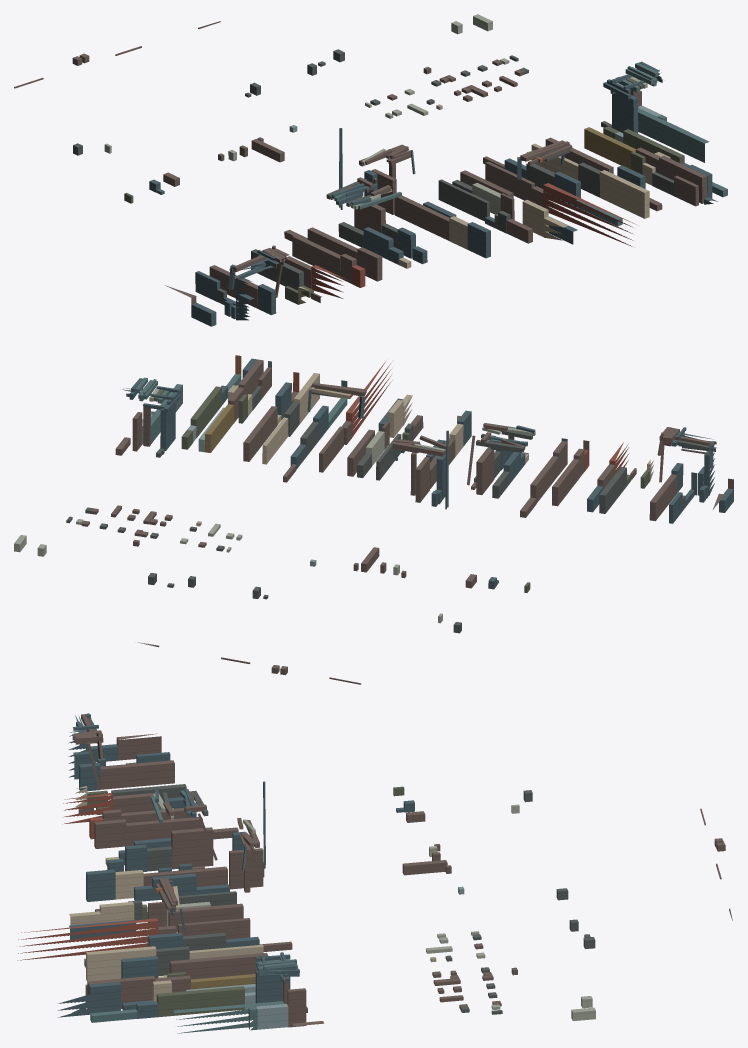
The model's file is terminal-28---124_-17.glb.
3 views of the same model, one above another, from view 1: azimuth 30°, elevation 25°; view 2: azimuth 150°, elevation 25°; view 3: azimuth 270°, elevation 25° (orthographic). The views are drawn at different scales.
Parts seen in each view (by area): view 1: measured-industrial; view 2: measured-industrial; view 3: measured-industrial.
Part boxes in pixels (box(x1,y1,x2,y2)): measured-industrial: box(14, 14, 727, 326); measured-industrial: box(14, 355, 733, 684); measured-industrial: box(17, 713, 732, 1033).
Size of the model in its own units: 259 by 37.43 by 276.
